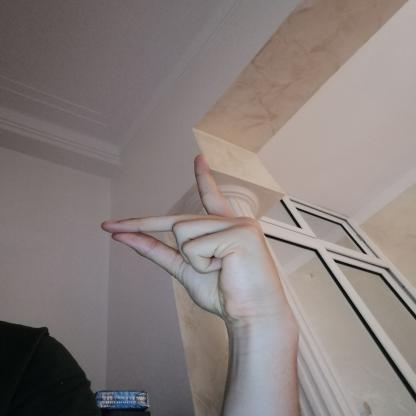TAA: (88, 149, 299, 326)
